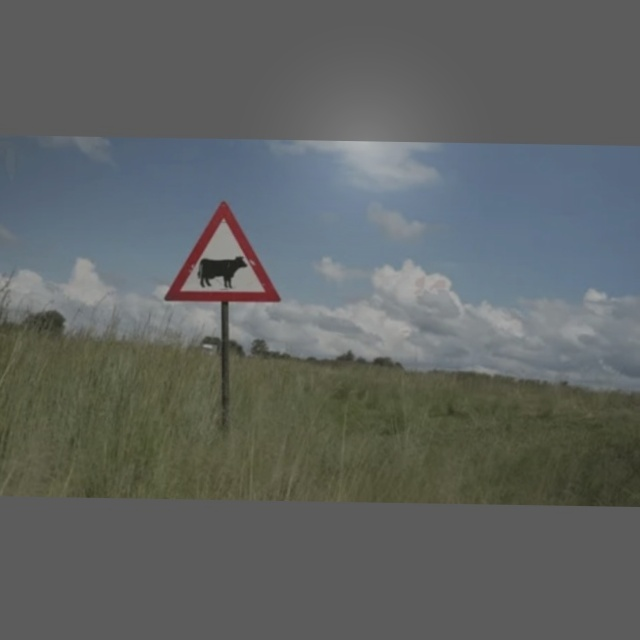Cattle: (170, 203, 279, 306)
